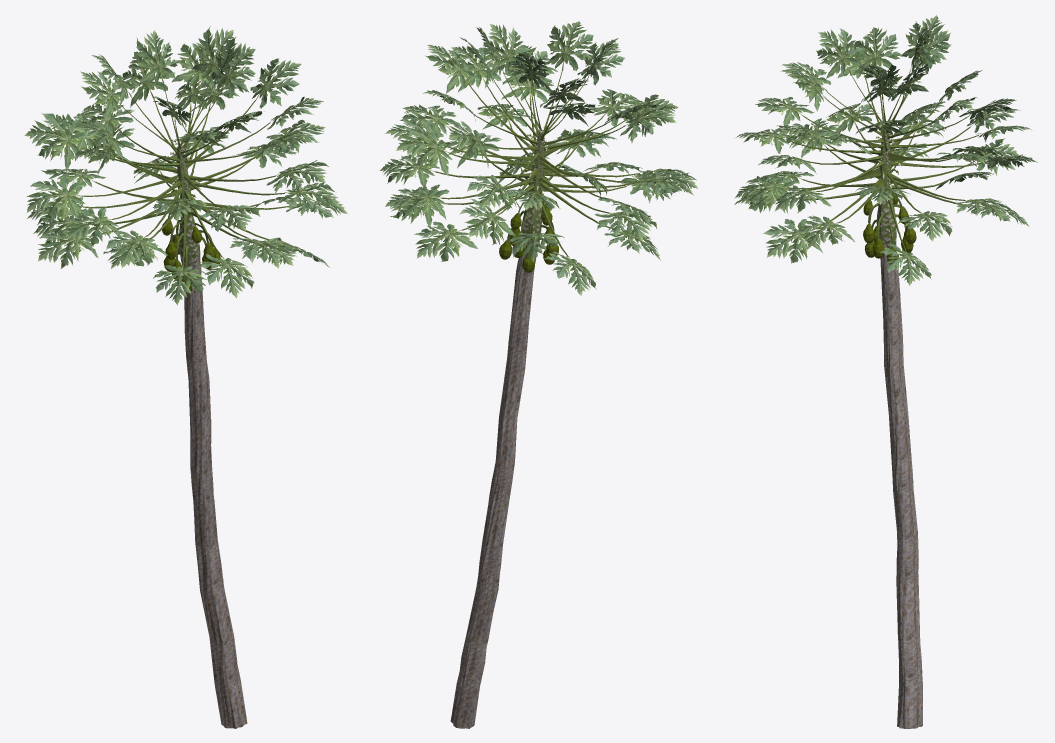
The picture shows the model from 3 angles, left to right: view 1: azimuth 30°, elevation 25°; view 2: azimuth 150°, elevation 25°; view 3: azimuth 270°, elevation 25°; orthographic projection. The views are drawn at different scales.
Visible parts, largest first — view 1: FR01a; view 2: FR01a; view 3: FR01a.
Boxes of the visible parts, x1,y1,x2,y2 form: FR01a: (24, 26, 347, 728); FR01a: (379, 21, 697, 728); FR01a: (734, 15, 1037, 728).
Size of what is drawn, in the model's own units: 3.5 by 8.49 by 3.54.
Materials: 7 (7 with a texture image).
